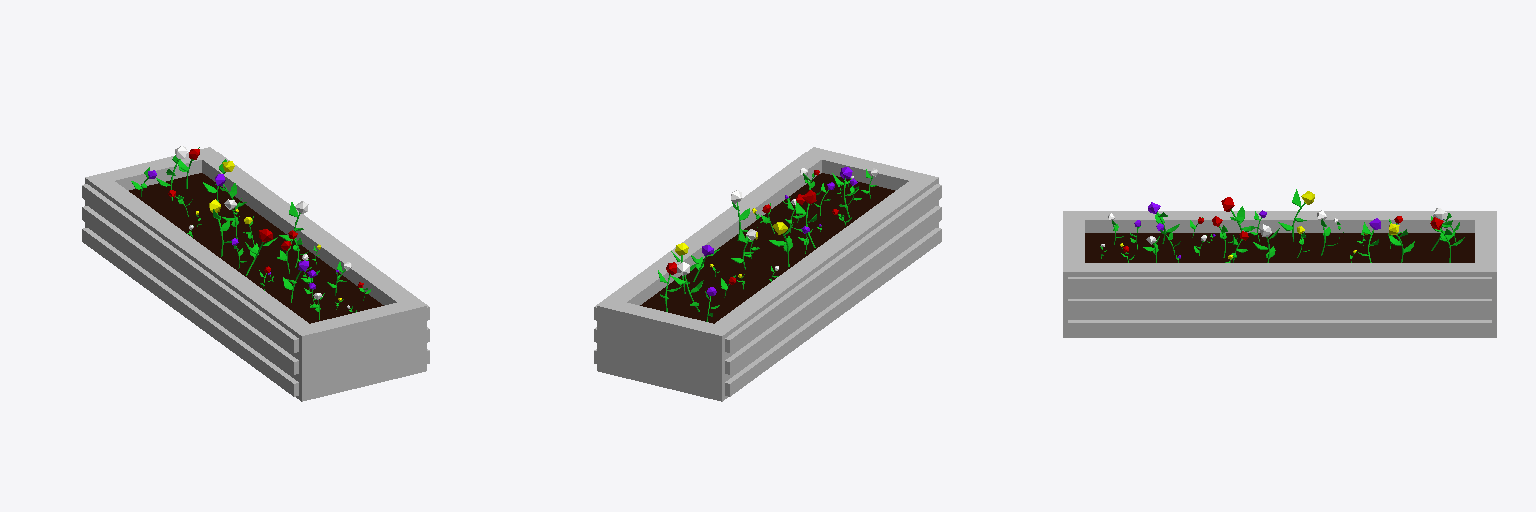
File: FlowerBox3.obj
The picture shows the model from 3 angles: view 1: azimuth 30°, elevation 25°; view 2: azimuth 150°, elevation 25°; view 3: azimuth 270°, elevation 25°; orthographic projection.
Visible parts, largest first — view 1: Cube.004_Cube.005, Cube.000_Cube.010; view 2: Cube.004_Cube.005, Cube.000_Cube.010; view 3: Cube.004_Cube.005, Cube.000_Cube.010.
Boxes of the visible parts, x1,y1,x2,y2 form: Cube.004_Cube.005: [82, 147, 429, 401]; Cube.000_Cube.010: [129, 173, 383, 323]; Cube.004_Cube.005: [594, 147, 941, 401]; Cube.000_Cube.010: [640, 173, 894, 323]; Cube.004_Cube.005: [1063, 211, 1496, 337]; Cube.000_Cube.010: [1085, 233, 1474, 262].
Bounding box in the file's own units: 1.09 × 0.7811 × 3.